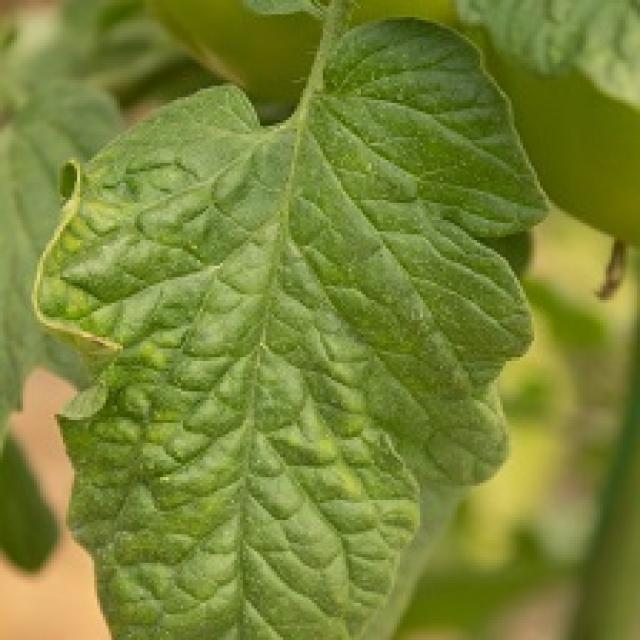Healthy: (32, 0, 541, 637)
